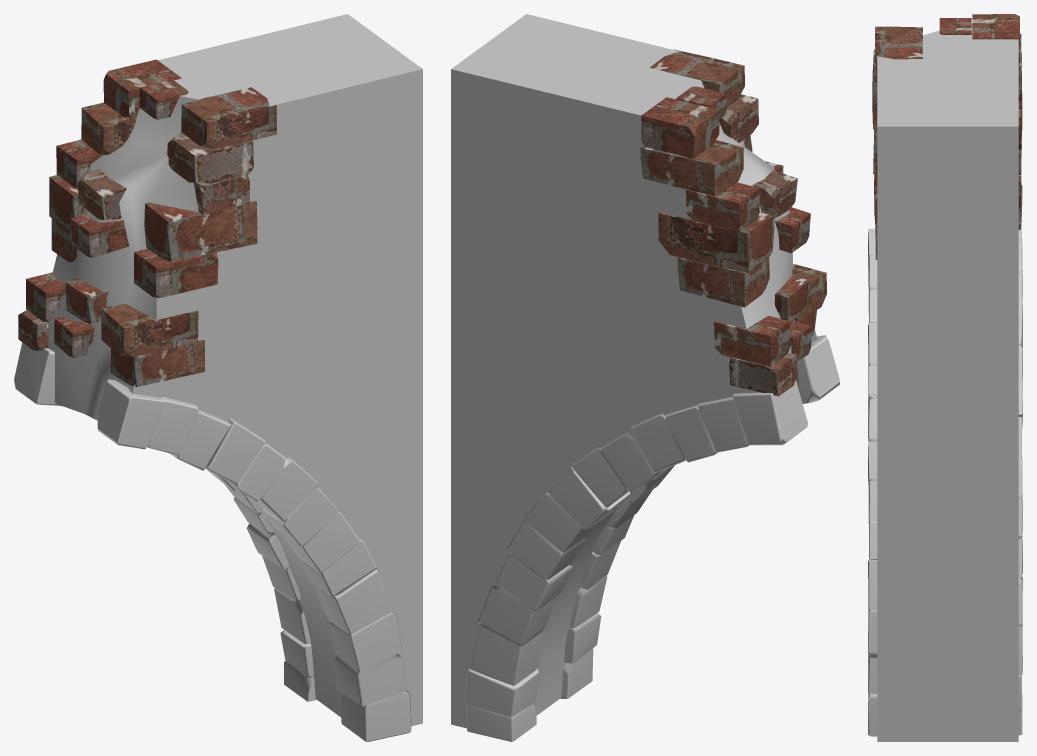
The model's file is SM_Archway_Thick_8m_Ruined_01.fbx.
The picture shows the model from 3 angles, left to right: view 1: azimuth 30°, elevation 25°; view 2: azimuth 150°, elevation 25°; view 3: azimuth 270°, elevation 25°; orthographic projection. The views are drawn at different scales.
Visible parts, largest first — view 1: SM_Archway_Thick_8m_Ruined_01_LOD0; view 2: SM_Archway_Thick_8m_Ruined_01_LOD0; view 3: SM_Archway_Thick_8m_Ruined_01_LOD0.
Boxes of the visible parts, x1,y1,x2,y2 form: SM_Archway_Thick_8m_Ruined_01_LOD0: (14,14,422,741); SM_Archway_Thick_8m_Ruined_01_LOD0: (451,14,839,741); SM_Archway_Thick_8m_Ruined_01_LOD0: (868,14,1022,741).
Size of what is drawn, in the model's own units: 320 by 603 by 137.
